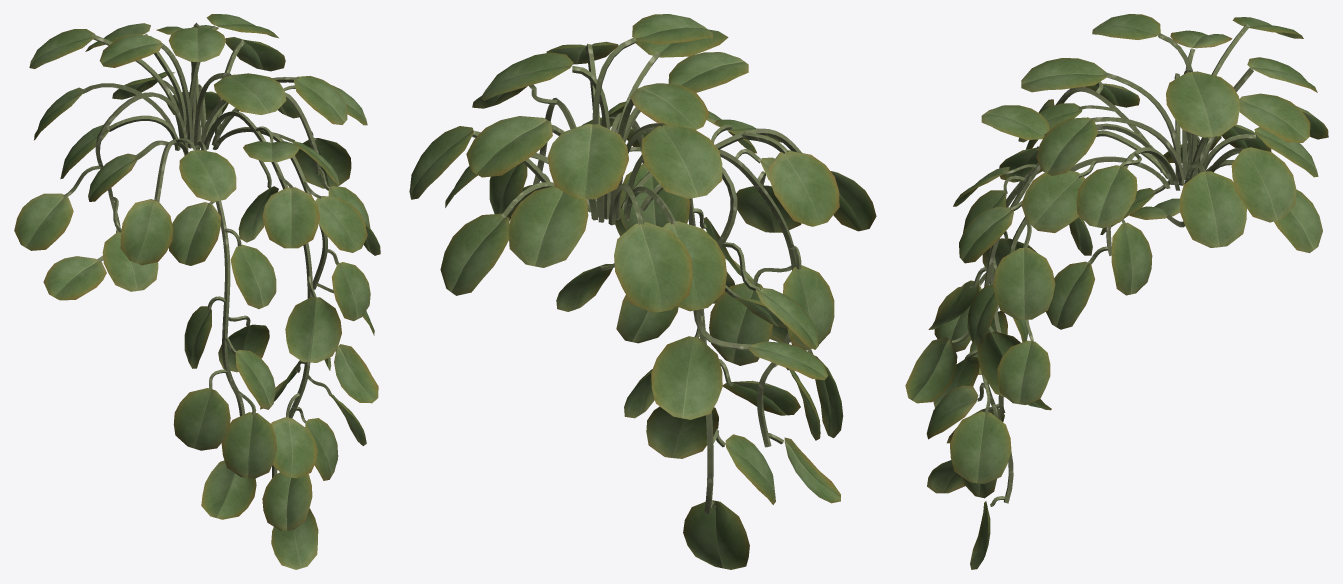
The model's file is Plant_C.fbx.
3 renders of one model, left to right at view 1: azimuth 30°, elevation 25°; view 2: azimuth 150°, elevation 25°; view 3: azimuth 270°, elevation 25°, orthographic. The views are drawn at different scales.
Parts seen in each view (by area): view 1: Plant_CCC1, Plant_CCC2; view 2: Plant_CCC1, Plant_CCC2; view 3: Plant_CCC1, Plant_CCC2.
Boxes of the visible parts, <box> form: Plant_CCC1: <box>14,14,370,308</box>; Plant_CCC2: <box>173,176,380,569</box>; Plant_CCC1: <box>409,14,876,380</box>; Plant_CCC2: <box>556,142,843,569</box>; Plant_CCC1: <box>953,14,1328,329</box>; Plant_CCC2: <box>905,171,1055,569</box>.
Size of the model in its own units: 0.279 by 0.4267 by 0.3106.
